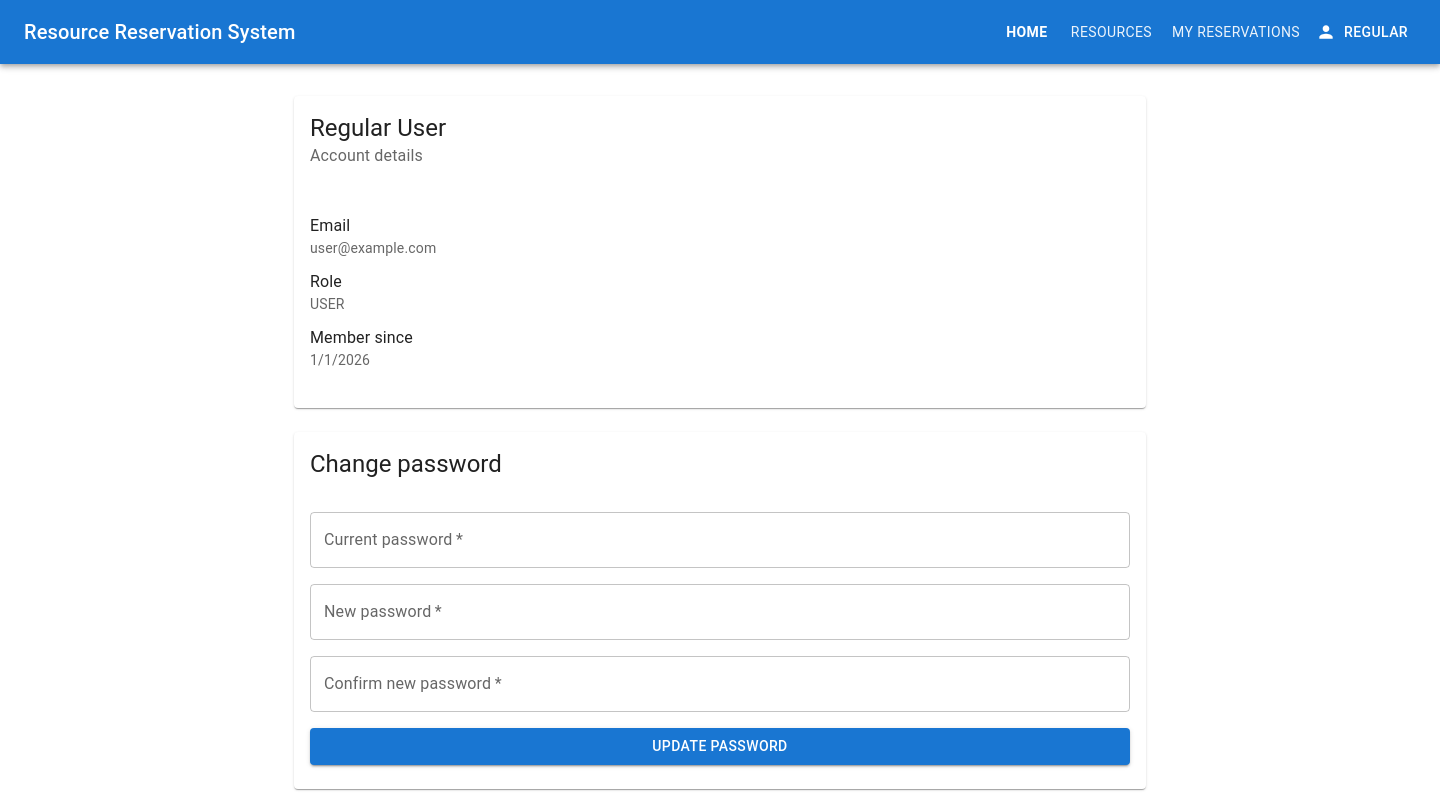
it: ProfilePage › shows API error when change password fails
The width and height of the screenshot is (1440, 793).
Type "wrong" into the password field labelled "Current password *".
click(720, 540); type("wrong")  # box 310,512 -> 1130,568
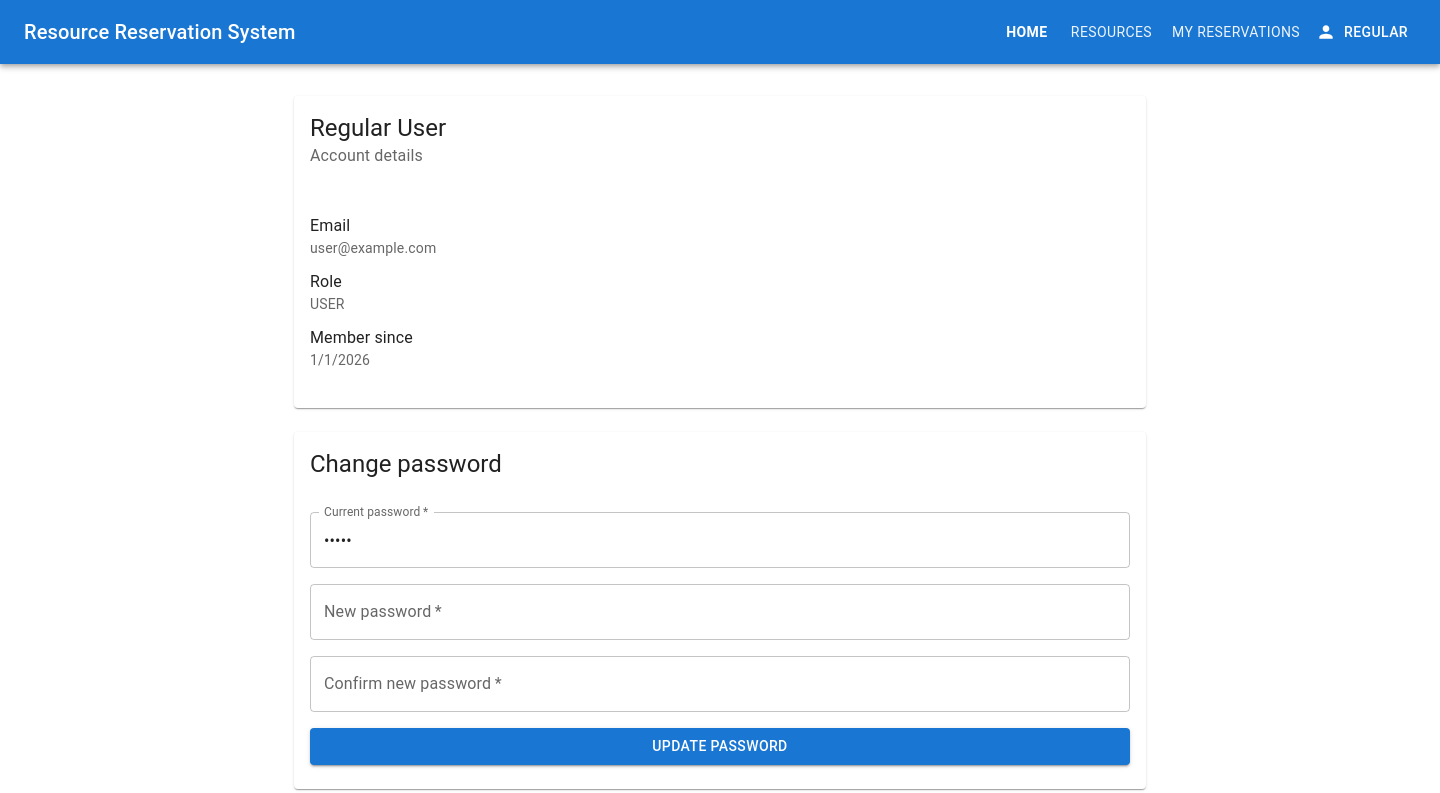
Type "newpassword123" into the password field labelled "New password *".
click(720, 612); type("newpassword123")  # box 310,584 -> 1130,640
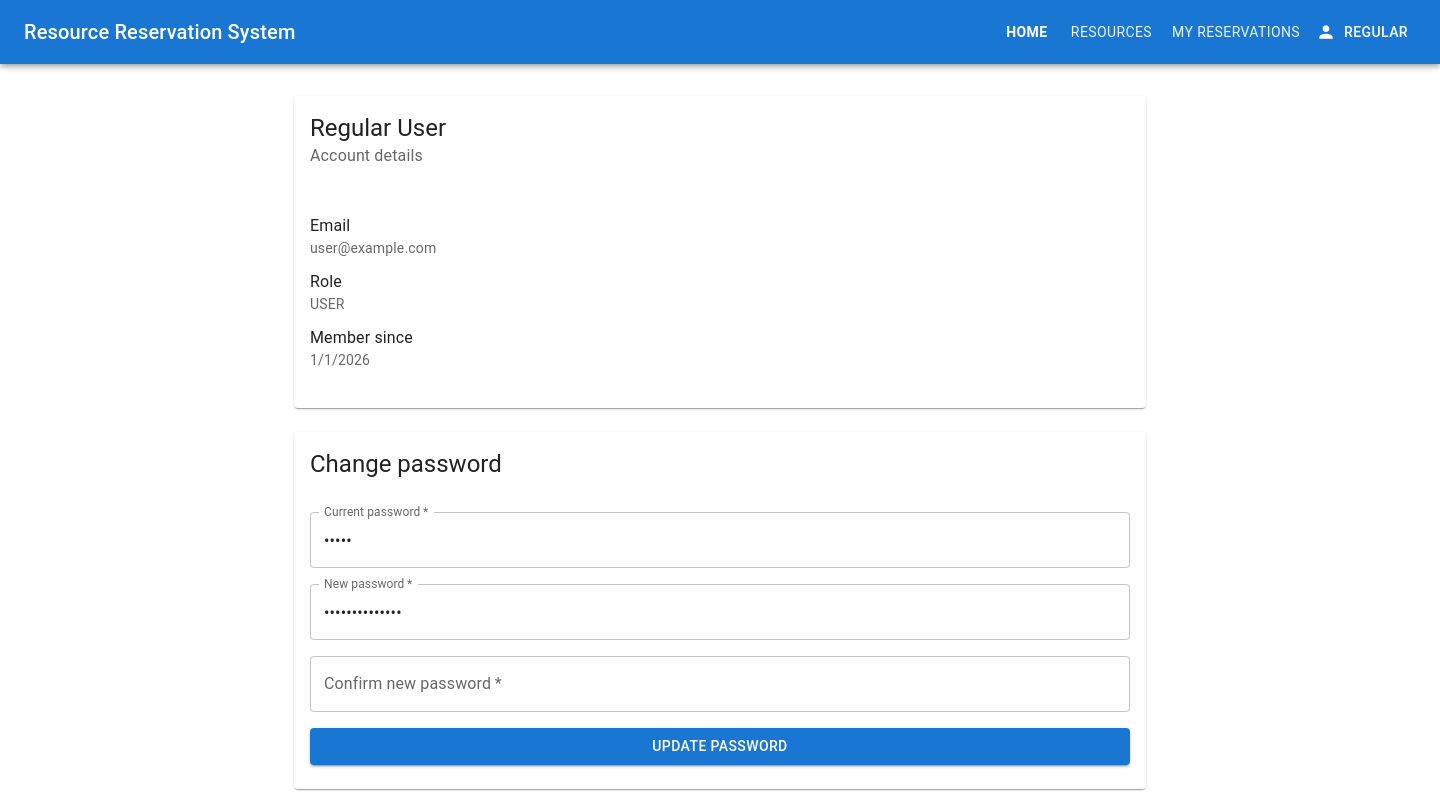
Type "newpassword123" into the password field labelled "Confirm new password *".
click(720, 684); type("newpassword123")  # box 310,656 -> 1130,712
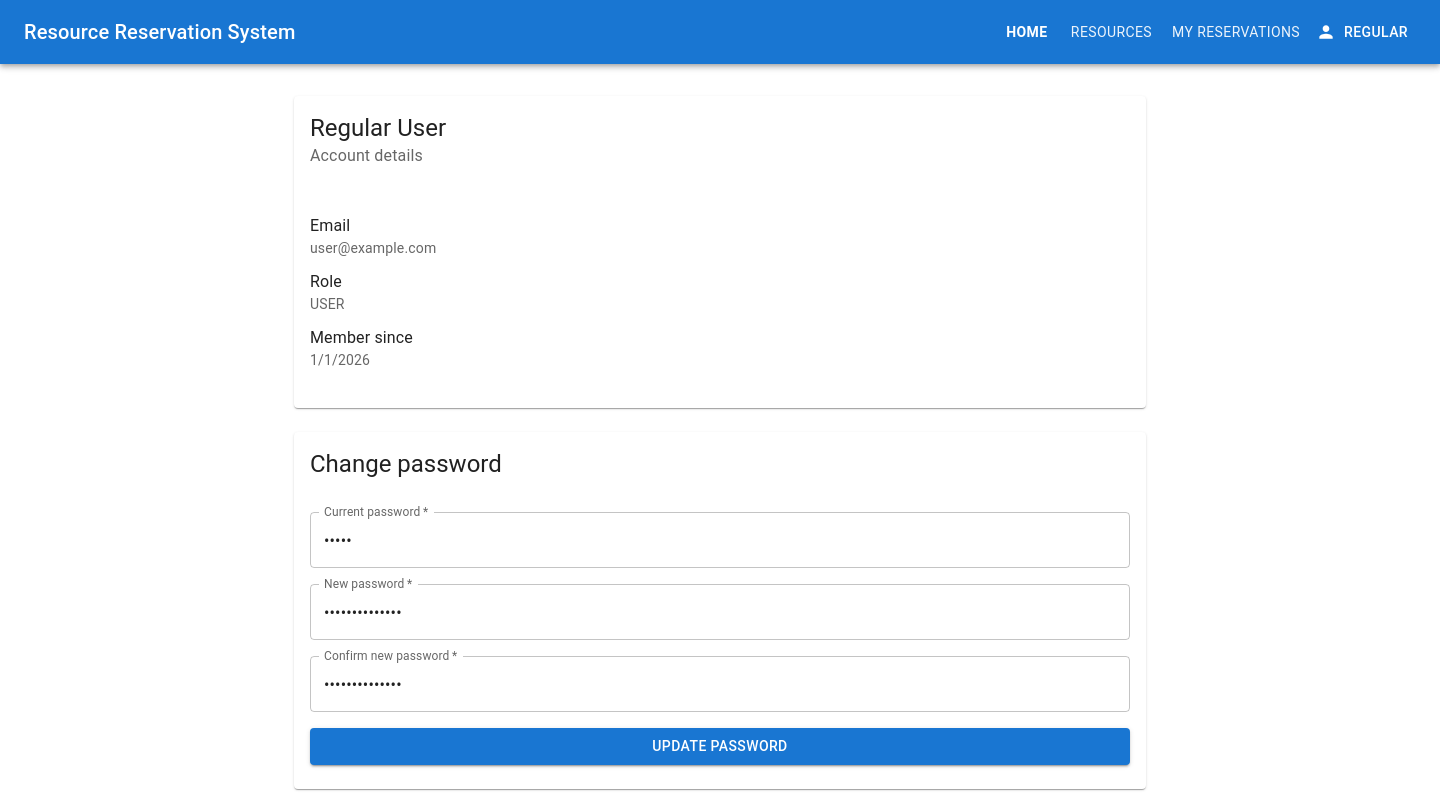
Click the button "Update password".
click(720, 746)  # box 310,728 -> 1130,765
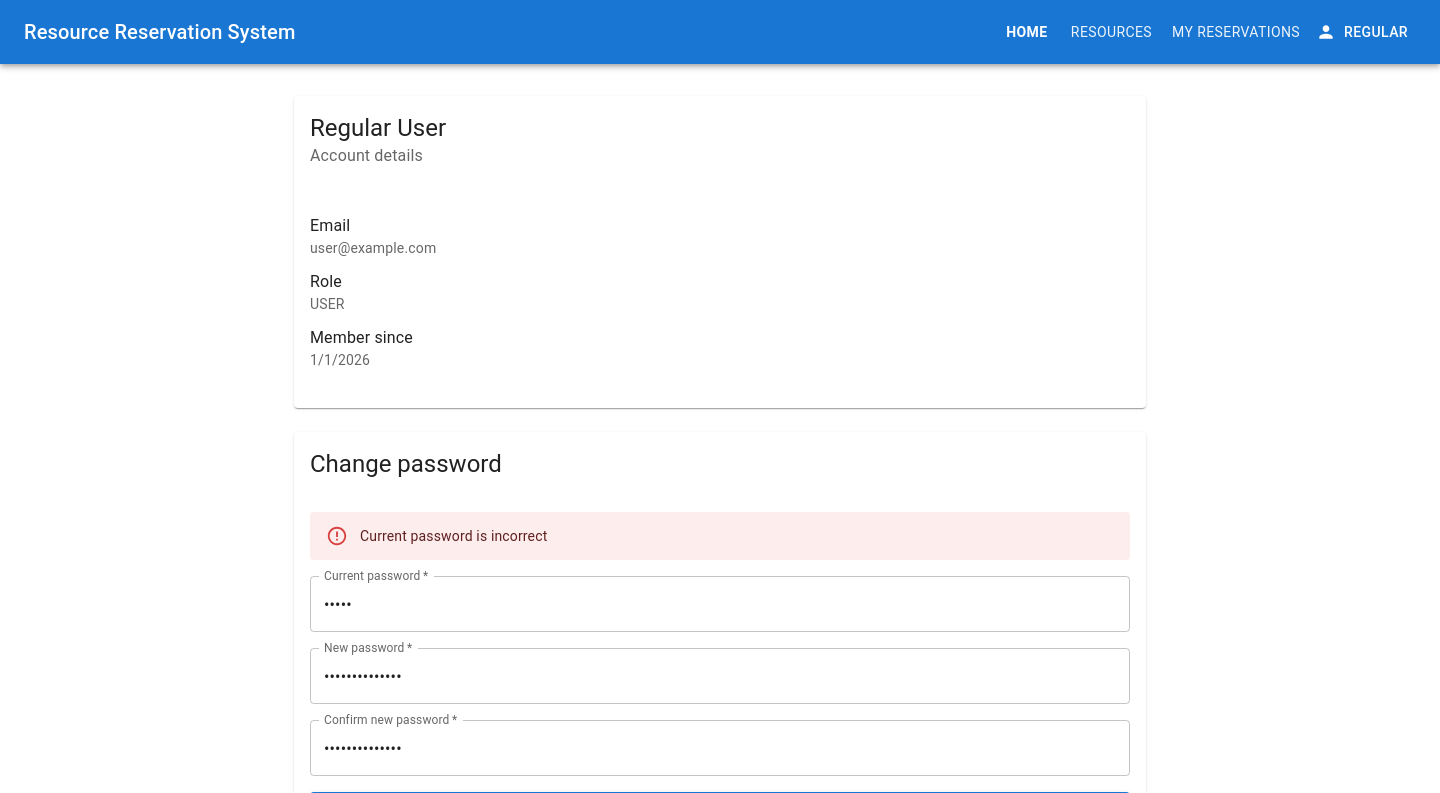
Result: the text "Current password is incorrect" is shown at 360,528 -> 547,544
